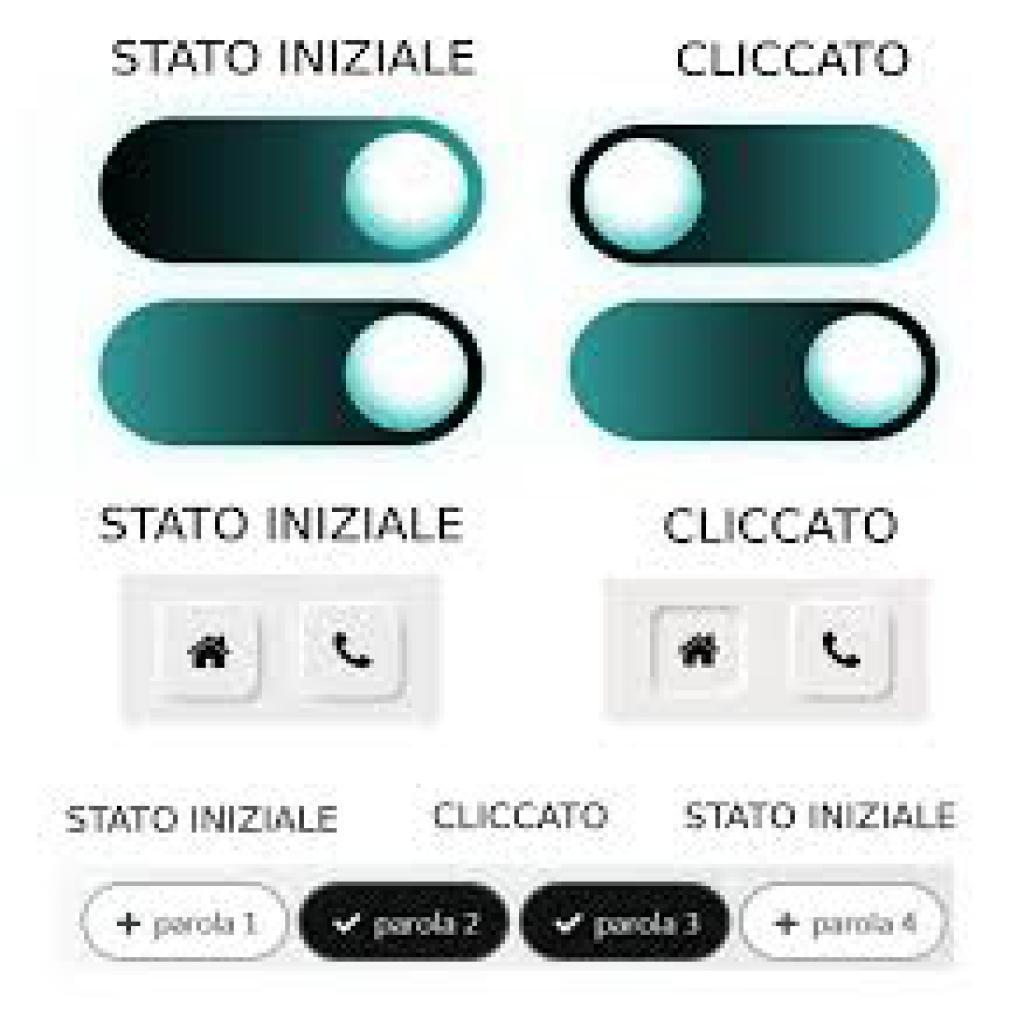button: (514, 880, 727, 966), (738, 882, 952, 964), (79, 884, 293, 964), (301, 882, 509, 961), (299, 884, 509, 961)
icon: (818, 628, 868, 680), (677, 629, 724, 676), (188, 628, 233, 676), (332, 631, 379, 674)
switch: (96, 303, 487, 452), (96, 120, 488, 263), (566, 122, 942, 268), (571, 304, 942, 440), (596, 616, 597, 621)
